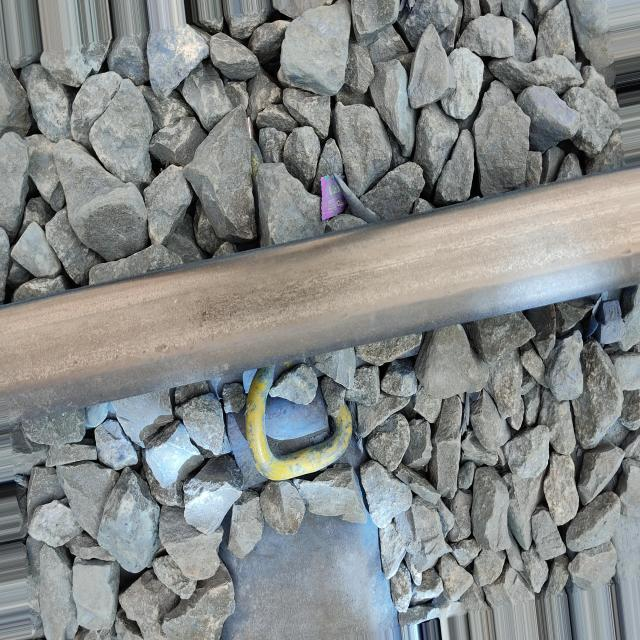broken_rail_medium: (158, 343, 169, 354), (202, 308, 209, 320)
